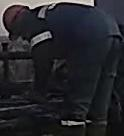helmet: (2, 4, 28, 41)
vest: (34, 4, 112, 58)
